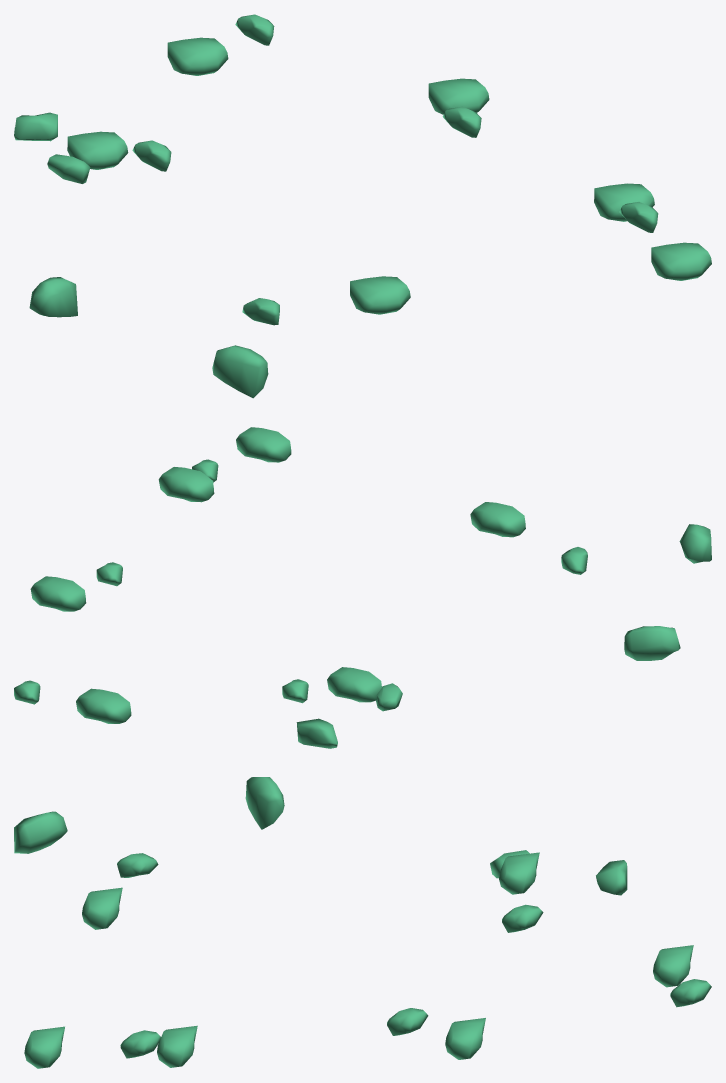
File: Floor_Break_C_02B_Lod0.fbx
3 views of the same model, one above another, from view 1: azimuth 30°, elevation 25°; view 2: azimuth 150°, elevation 25°; view 3: azimuth 270°, elevation 25° (orthographic). The views are drawn at different scales.
Parts seen in each view (by area): view 1: Floor_Break_C_02B_Lod0; view 2: Floor_Break_C_02B_Lod0; view 3: Floor_Break_C_02B_Lod0.
Boxes of the visible parts, box(x1,y1,x2,y2) form: Floor_Break_C_02B_Lod0: box(14, 14, 711, 398); Floor_Break_C_02B_Lod0: box(14, 427, 711, 748); Floor_Break_C_02B_Lod0: box(14, 777, 711, 1068).
Size of the model in its own units: 416 by 30.48 by 449.
